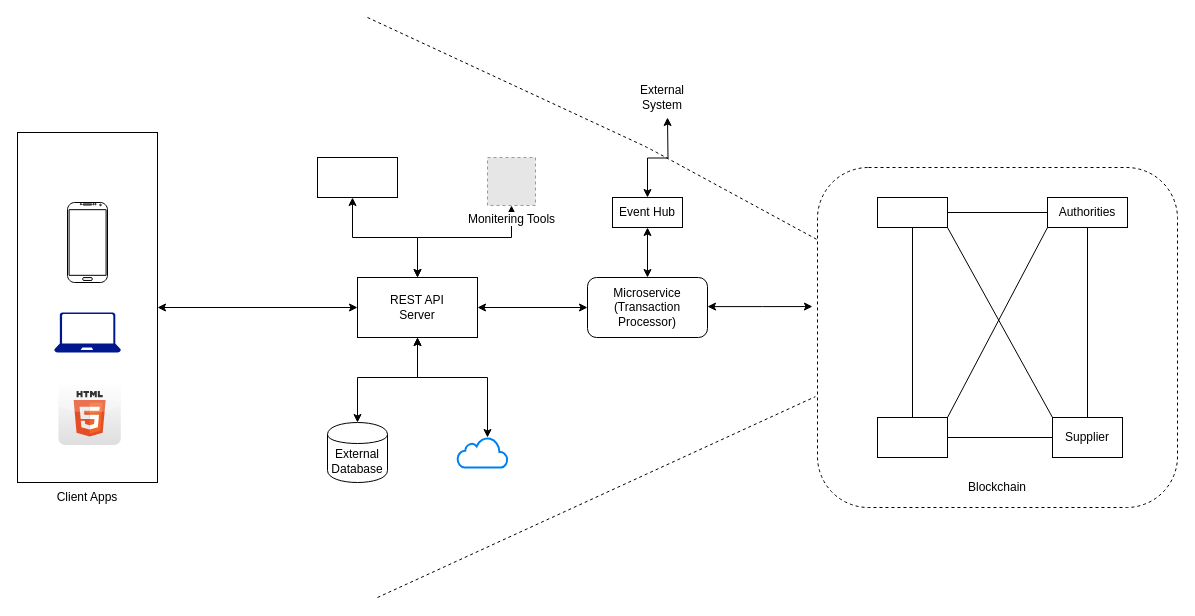
Image size: 1195x616. Some labels were removed from this diagram. Grey dashed boxes stand in for pictures. Here are the shapes that lost their labels. From the top down, the centre of each, then its label:
(357,177): ERP system
(912,212): Dispenser
(482,452): Cloud KeyVault
(912,437): Manufacturer
